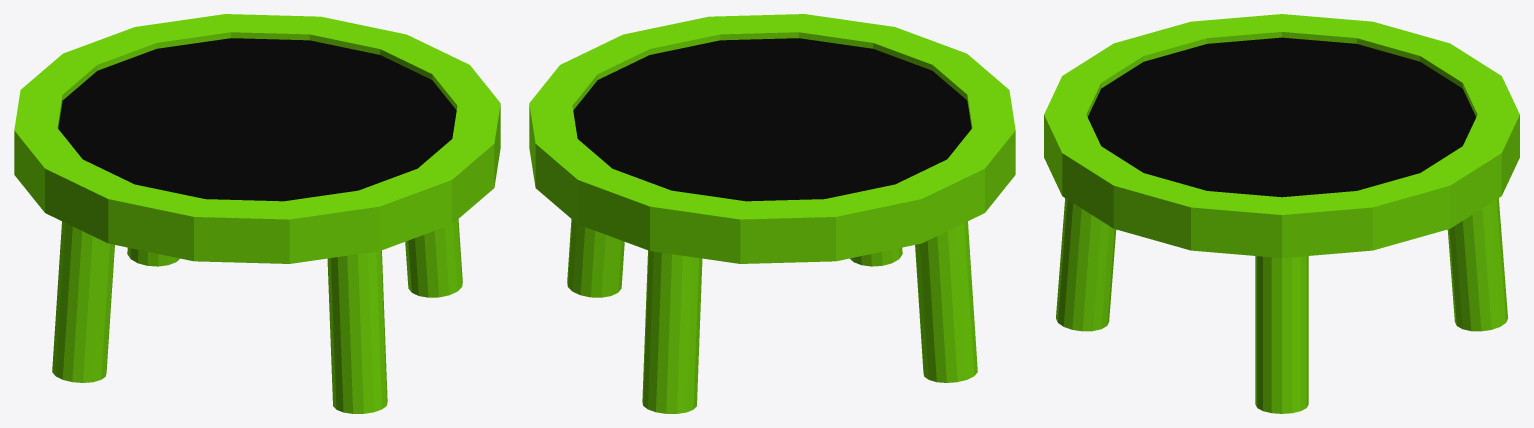
The model's file is trampoline.glb.
The picture shows the model from 3 angles, left to right: view 1: azimuth 30°, elevation 25°; view 2: azimuth 150°, elevation 25°; view 3: azimuth 270°, elevation 25°; orthographic projection. The views are drawn at different scales.
Visible parts, largest first — view 1: Cylinder, Cylinder.003, Cylinder.001, Cylinder.002, Cylinder.004; view 2: Cylinder, Cylinder.004, Cylinder.001, Cylinder.002, Cylinder.003; view 3: Cylinder, Cylinder.002, Cylinder.003, Cylinder.004.
Part boxes in pixels (x1,y1,x2,y2): Cylinder: [14, 14, 500, 263]; Cylinder.003: [327, 250, 387, 413]; Cylinder.001: [52, 221, 114, 382]; Cylinder.002: [405, 219, 462, 297]; Cylinder.004: [127, 247, 179, 266]; Cylinder: [529, 14, 1015, 263]; Cylinder.004: [642, 250, 702, 413]; Cylinder.001: [915, 221, 977, 382]; Cylinder.002: [567, 219, 624, 297]; Cylinder.003: [850, 247, 902, 266]; Cylinder: [1044, 14, 1519, 258]; Cylinder.002: [1255, 256, 1308, 413]; Cylinder.003: [1056, 198, 1116, 331]; Cylinder.004: [1447, 198, 1507, 331].
Bounding box in the file's own units: 2 × 0.9612 × 2.
